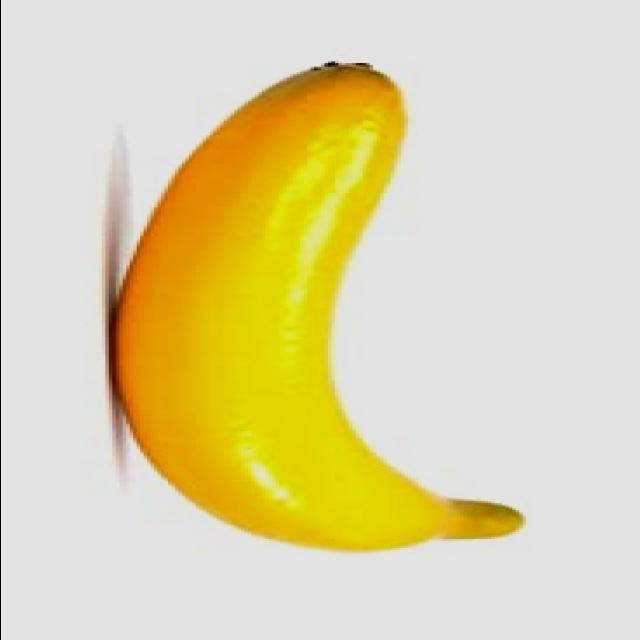agrume: (105, 57, 523, 555)
